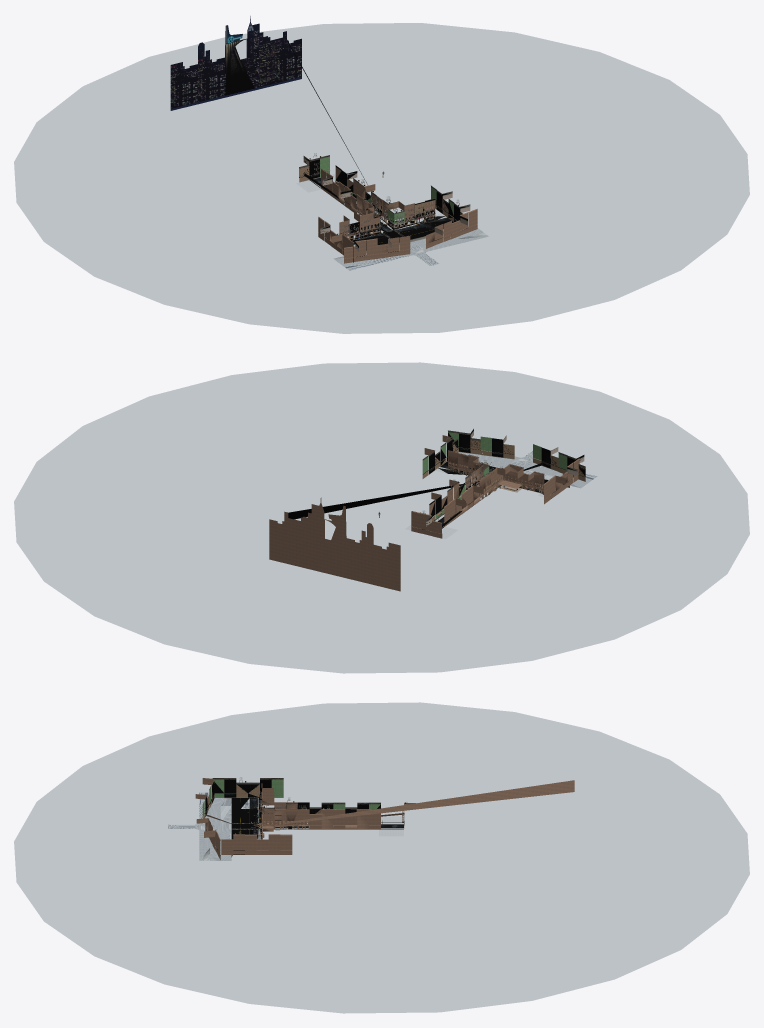
File: JALAN_KOTA_street.glb
The picture shows the model from 3 angles, top to bottom: view 1: azimuth 30°, elevation 25°; view 2: azimuth 150°, elevation 25°; view 3: azimuth 270°, elevation 25°; orthographic projection.
Visible parts, largest first — view 1: Material3 (×6), Material2 (×2); view 2: Material3 (×7), Material2 (×2); view 3: Material3 (×5), Material2 (×2).
Boxes of the visible parts, left/top/right/bottom form: Material3 (×6): left=14, top=16, right=749, bottom=333; Material2 (×2): left=299, top=155, right=488, bottom=270; Material3 (×7): left=14, top=362, right=749, bottom=673; Material2 (×2): left=412, top=430, right=596, bottom=531; Material3 (×5): left=14, top=702, right=749, bottom=1013; Material2 (×2): left=168, top=778, right=405, bottom=860.
Size of the model in its own units: 7445 by 1144 by 7445.
28 materials, 19 textured.
